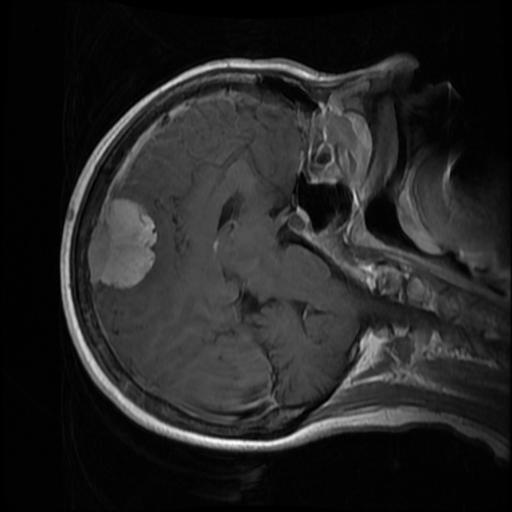meningioma: (89, 196, 158, 289)
